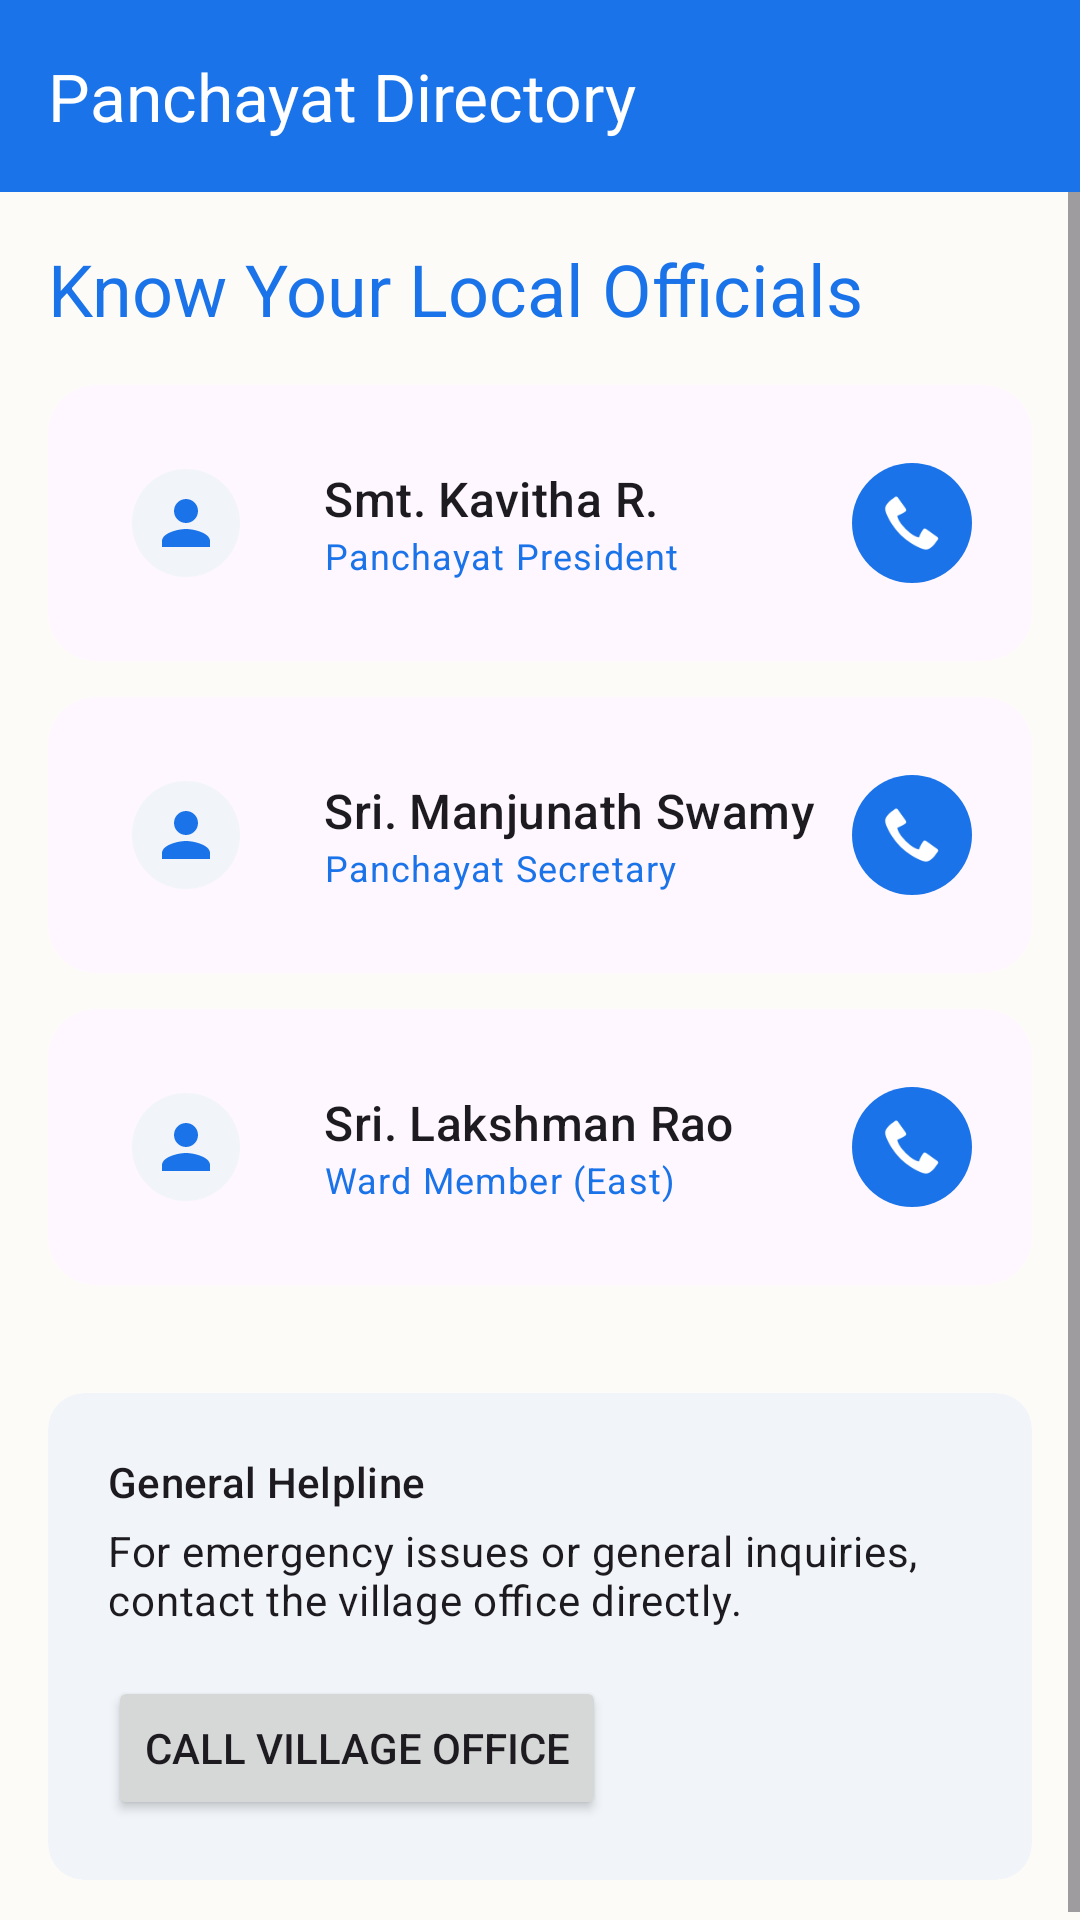

Point at icon controls on the screen. Image size 1080px×1920px, points as [x,y].
phone call: [912,523], [912,835], [912,1147]
profile: [186,523], [186,835], [186,1147]
